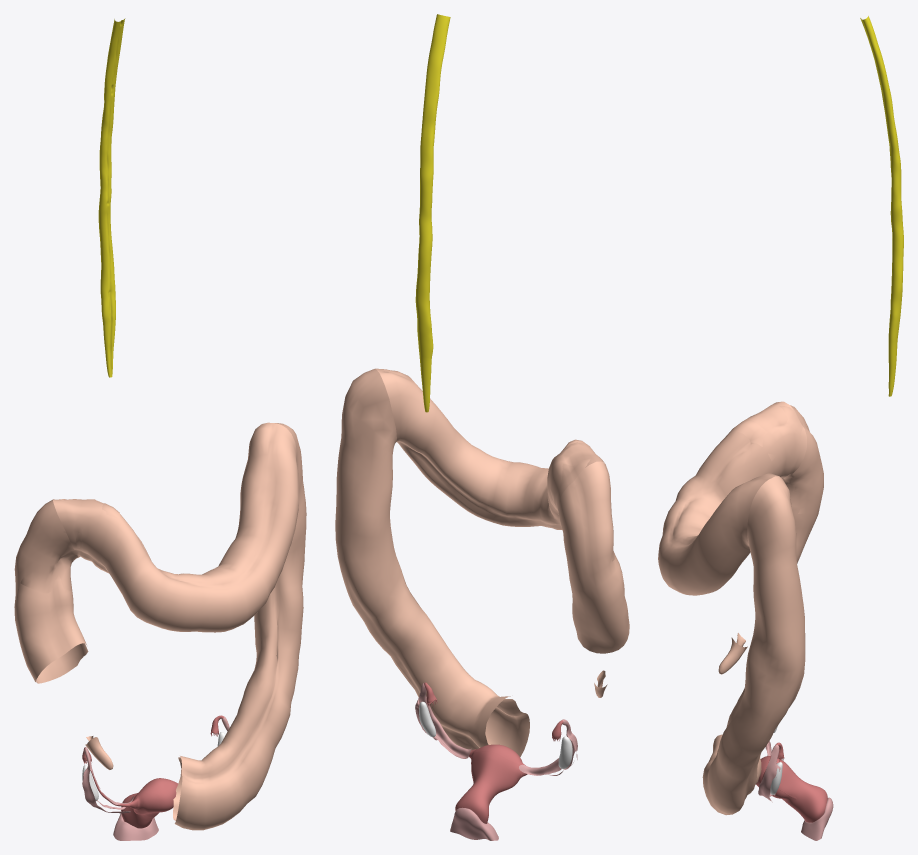
The model's file is female-a-organ-7.glb.
The picture shows the model from 3 angles, left to right: view 1: azimuth 30°, elevation 25°; view 2: azimuth 150°, elevation 25°; view 3: azimuth 270°, elevation 25°; orthographic projection. The views are drawn at different scales.
Visible parts, largest first — view 1: VH_F_transverse_colon, VH_F_descending_colon, VH_F_ascending_colon, VH_F_hepatic_flexure_of_colon, VH_F_fundus_of_uterus, VH_F_cervicovaginal_junction, VH_F_mesosalpinx_R; view 2: VH_F_descending_colon, VH_F_transverse_colon, VH_F_ascending_colon, VH_F_body_of_uterus, VH_F_cervicovaginal_junction, VH_F_hepatic_flexure_of_colon, VH_F_cervix, VH_F_mesosalpinx_L, VH_F_sixth_thoracic_spinal_cord_segment, VH_F_mesosalpinx_R, VH_F_fourth_thoracic_spinal_cord_segment; view 3: VH_F_descending_colon, VH_F_transverse_colon, VH_F_ascending_colon, VH_F_hepatic_flexure_of_colon, VH_F_cervix, VH_F_cervicovaginal_junction, VH_F_body_of_uterus, VH_F_mesosalpinx_L, VH_F_vermiform_appendix.
Part boxes in pixels (x1,y1,x2,y2): VH_F_transverse_colon: (53, 422, 298, 632); VH_F_descending_colon: (173, 423, 306, 830); VH_F_ascending_colon: (14, 499, 88, 683); VH_F_hepatic_flexure_of_colon: (20, 499, 119, 593); VH_F_fundus_of_uterus: (135, 778, 178, 811); VH_F_cervicovaginal_junction: (113, 813, 158, 840); VH_F_mesosalpinx_R: (82, 747, 133, 813); VH_F_descending_colon: (335, 368, 529, 756); VH_F_transverse_colon: (376, 368, 604, 529); VH_F_ascending_colon: (557, 461, 629, 653); VH_F_body_of_uterus: (471, 751, 521, 795); VH_F_cervicovaginal_junction: (450, 807, 498, 840); VH_F_hepatic_flexure_of_colon: (547, 439, 615, 561); VH_F_cervix: (455, 786, 490, 823); VH_F_mesosalpinx_L: (418, 683, 471, 758); VH_F_sixth_thoracic_spinal_cord_segment: (422, 86, 439, 130); VH_F_mesosalpinx_R: (519, 719, 577, 775); VH_F_fourth_thoracic_spinal_cord_segment: (430, 14, 450, 53); VH_F_descending_colon: (702, 476, 805, 815); VH_F_transverse_colon: (658, 401, 806, 595); VH_F_ascending_colon: (783, 405, 823, 563); VH_F_hepatic_flexure_of_colon: (731, 406, 817, 513); VH_F_cervix: (797, 784, 827, 822); VH_F_cervicovaginal_junction: (801, 797, 833, 840); VH_F_body_of_uterus: (775, 759, 801, 797); VH_F_mesosalpinx_L: (758, 745, 779, 802); VH_F_vermiform_appendix: (718, 633, 747, 674).
Size of the model in its own units: 0.2056 by 0.5675 by 0.1541.
